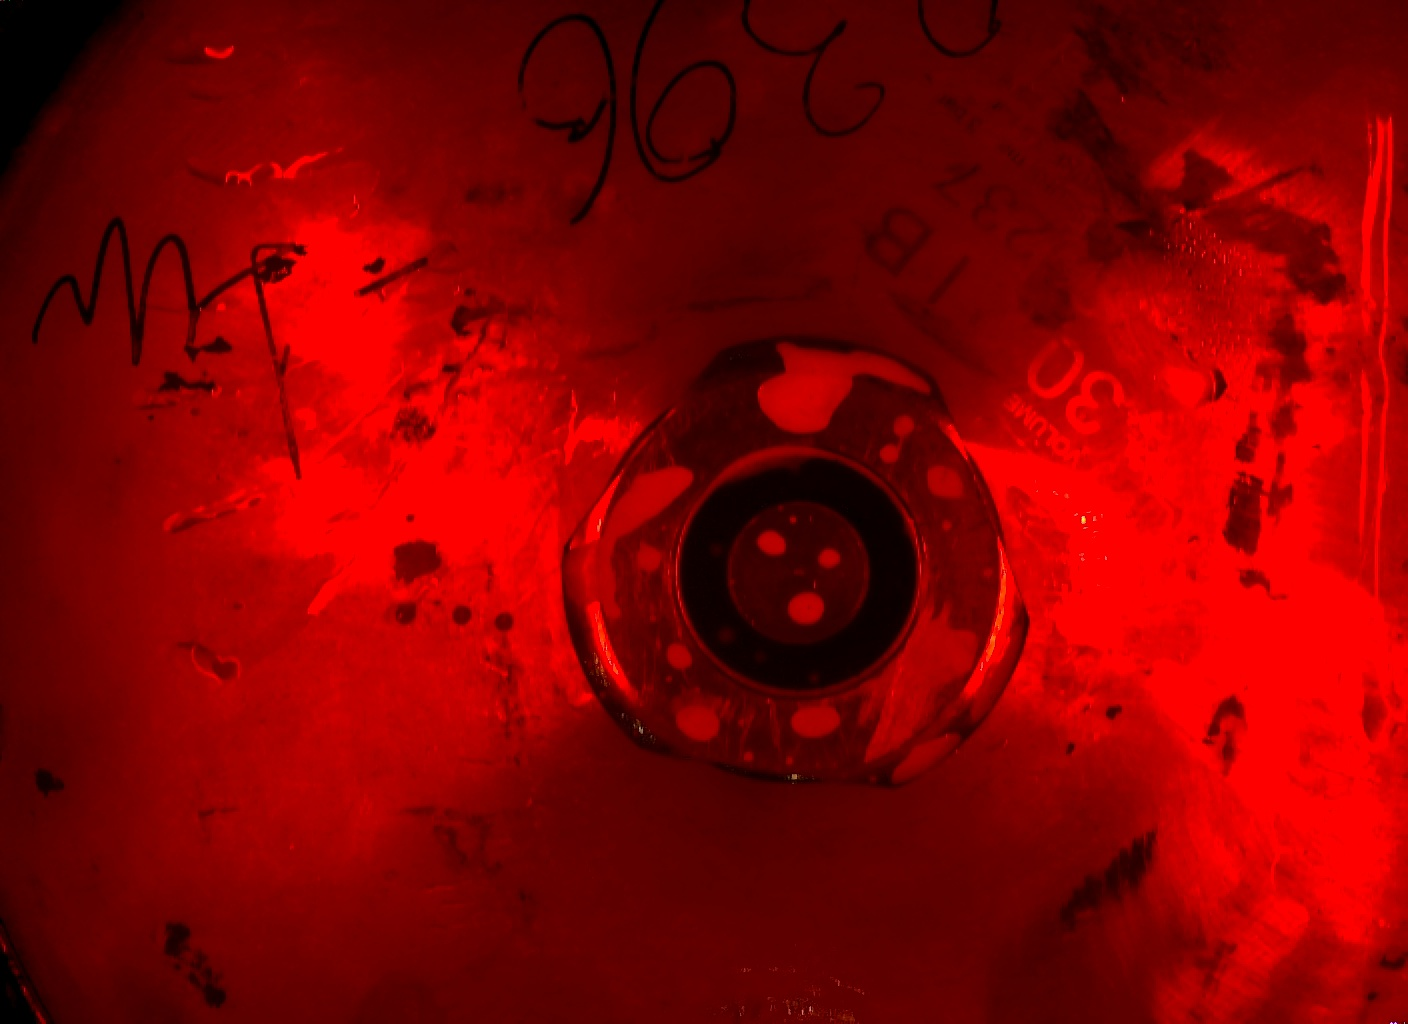pena: (554, 462, 688, 631), (747, 336, 942, 449), (746, 523, 846, 631), (667, 695, 747, 754), (776, 691, 849, 749)
